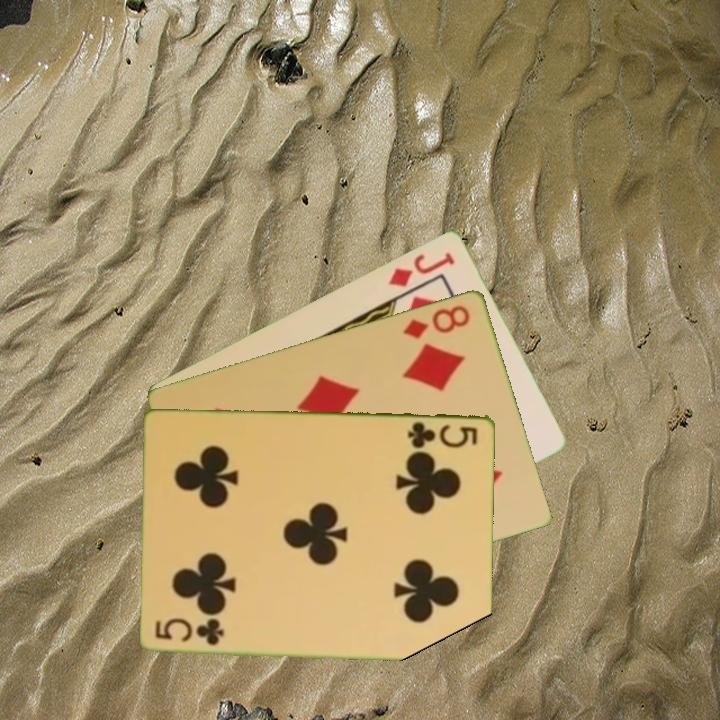5c: (404, 418, 481, 451), (152, 617, 227, 648)
8d: (400, 301, 474, 341)
Jd: (385, 248, 458, 290)
